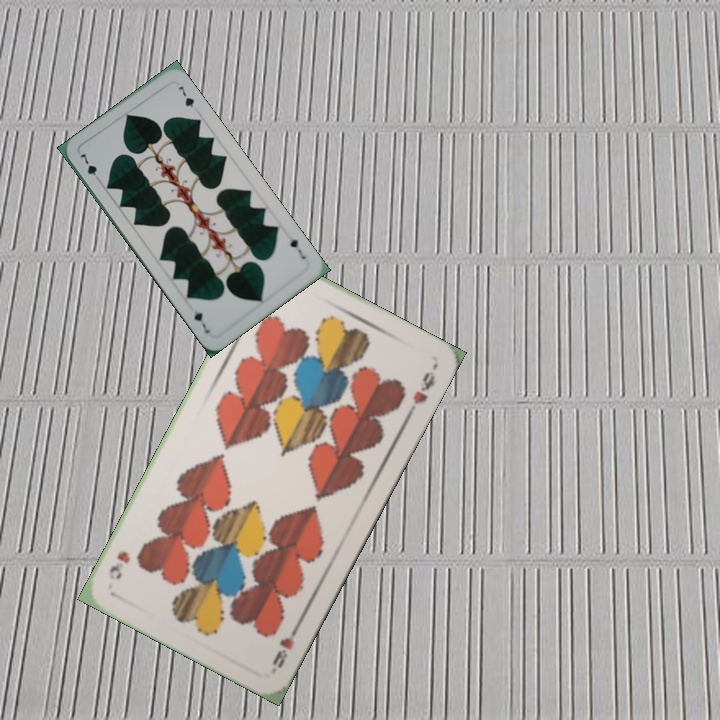G7: (75, 150, 104, 185), (286, 234, 308, 262)
H9: (268, 619, 303, 674)
